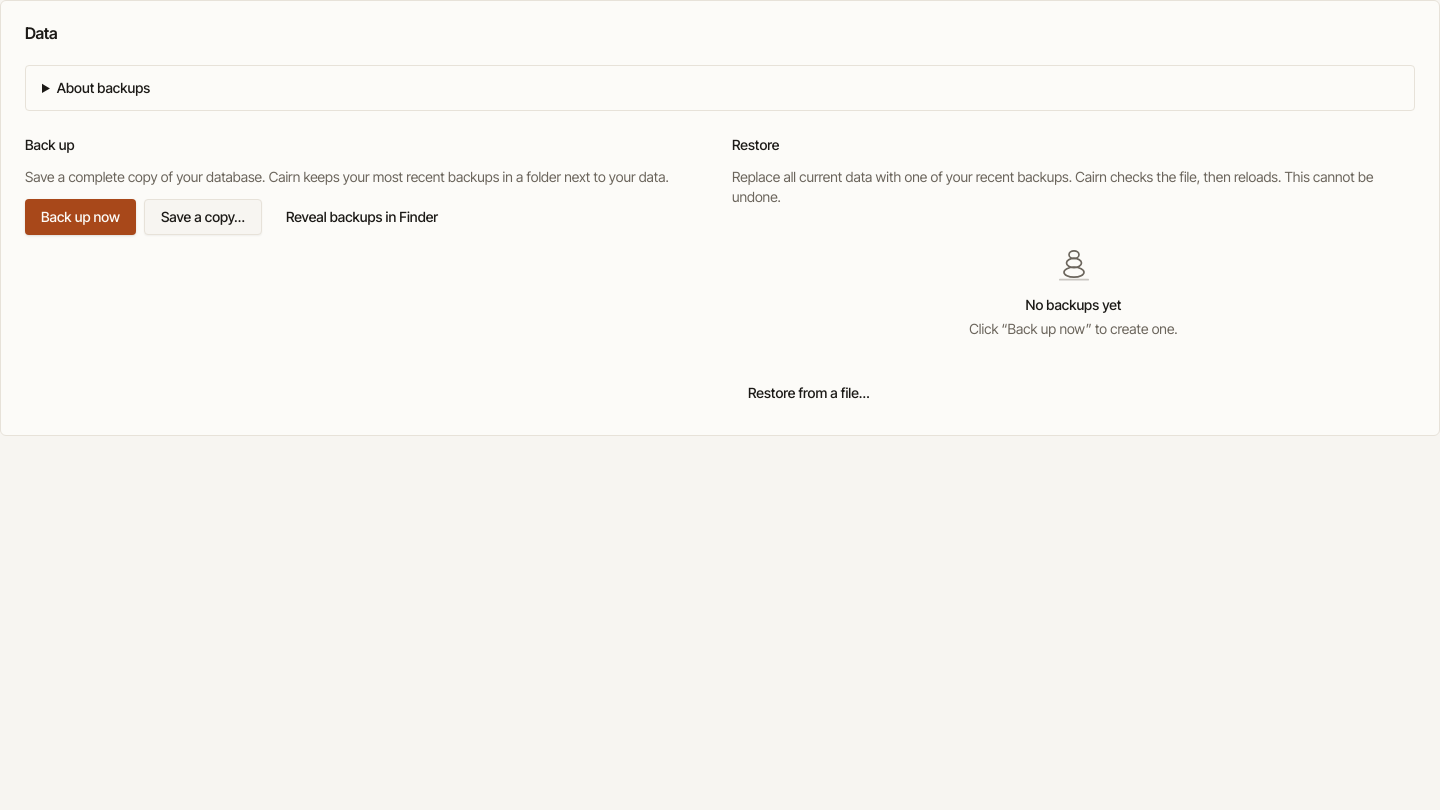
Test: DataSection — desktop (Tauri) path › Restore: surfaces a restore failure without crashing
This screenshot has width=1440, height=810.
Click the button "Restore from a file…" at (809, 393), box [732,375,886,411]
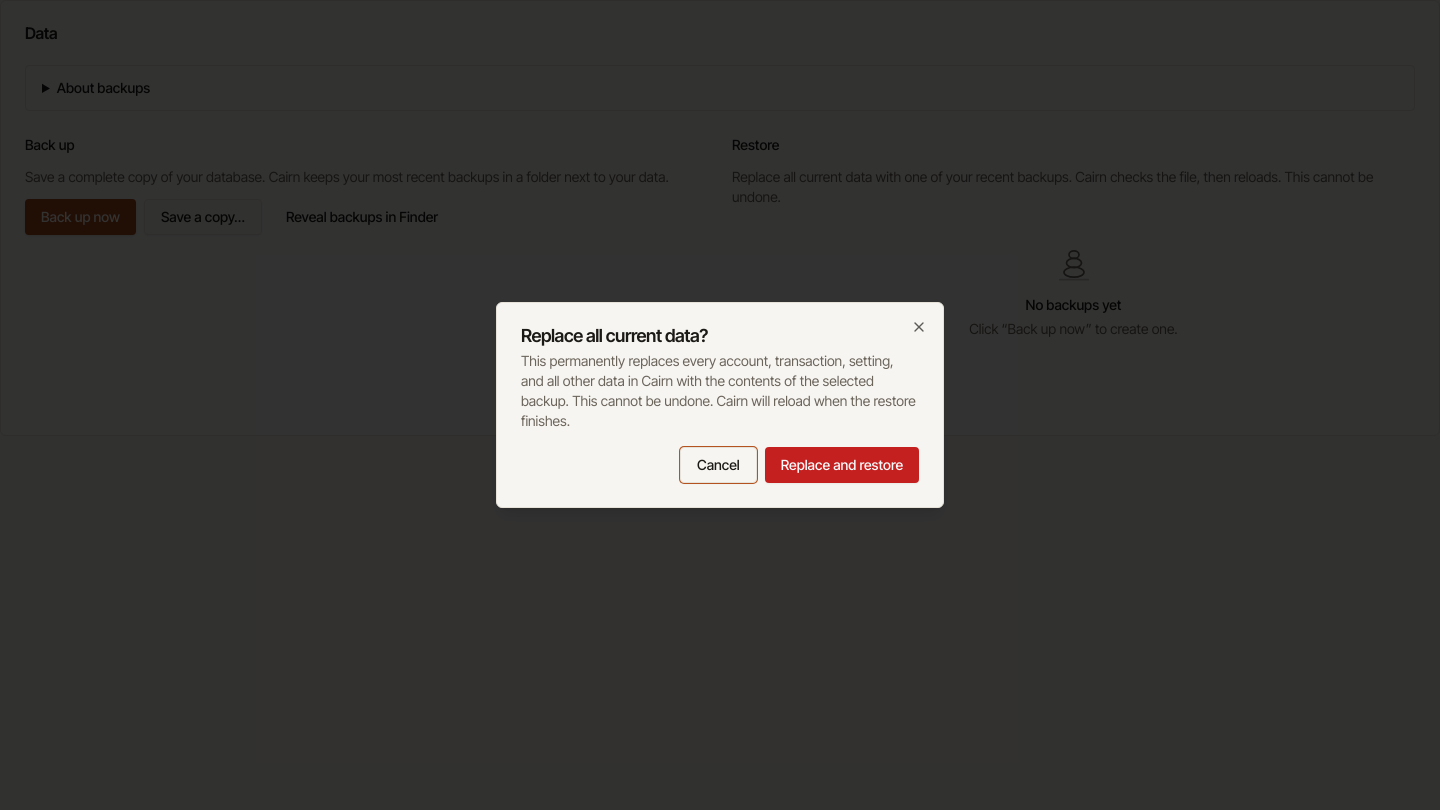
Expected: the dialog is shown, [496,302,944,508]
Click the button "Replace and restore" at (842, 465), box [765,447,919,483]
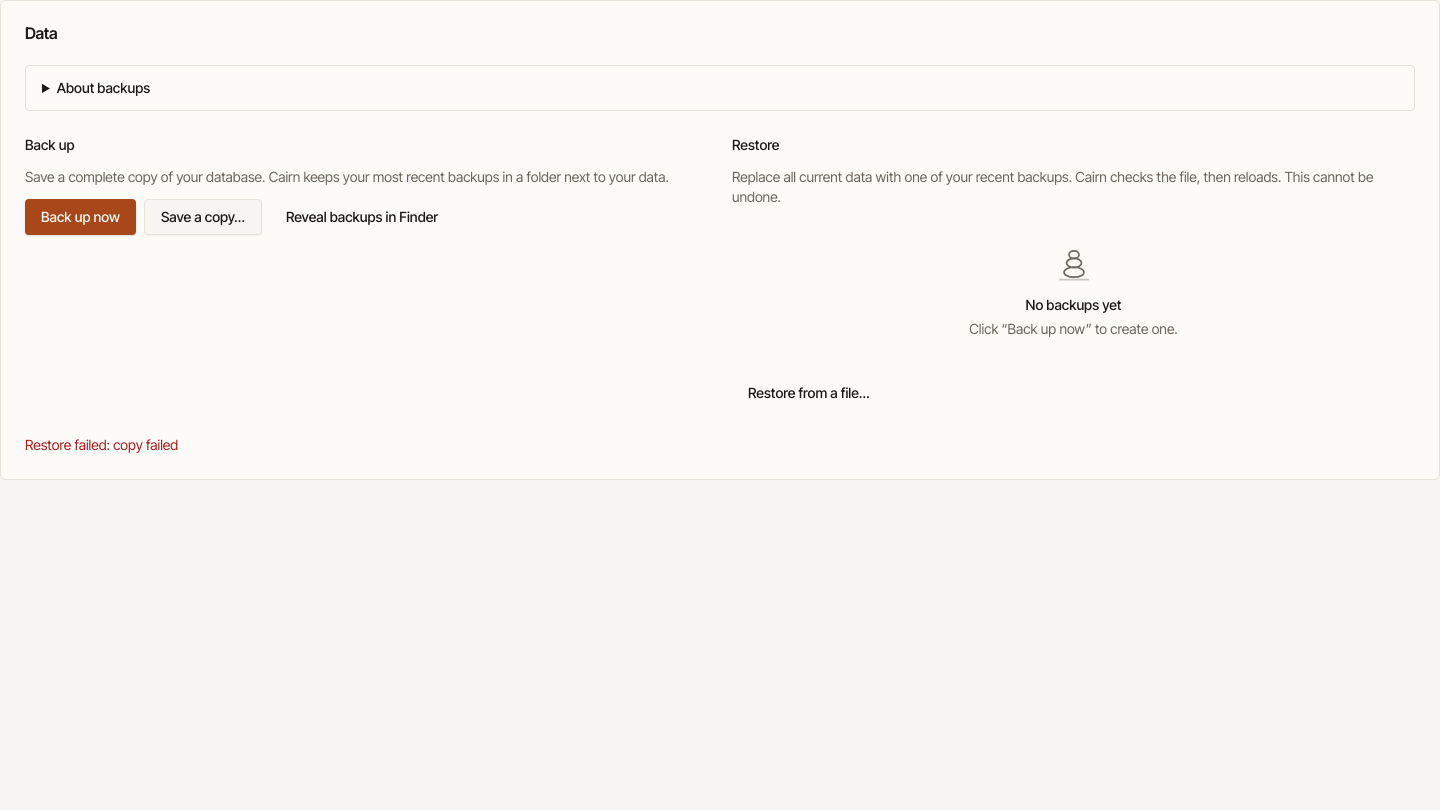
Expected: the text "Restore failed: copy failed" is shown, [25,436,178,453]
